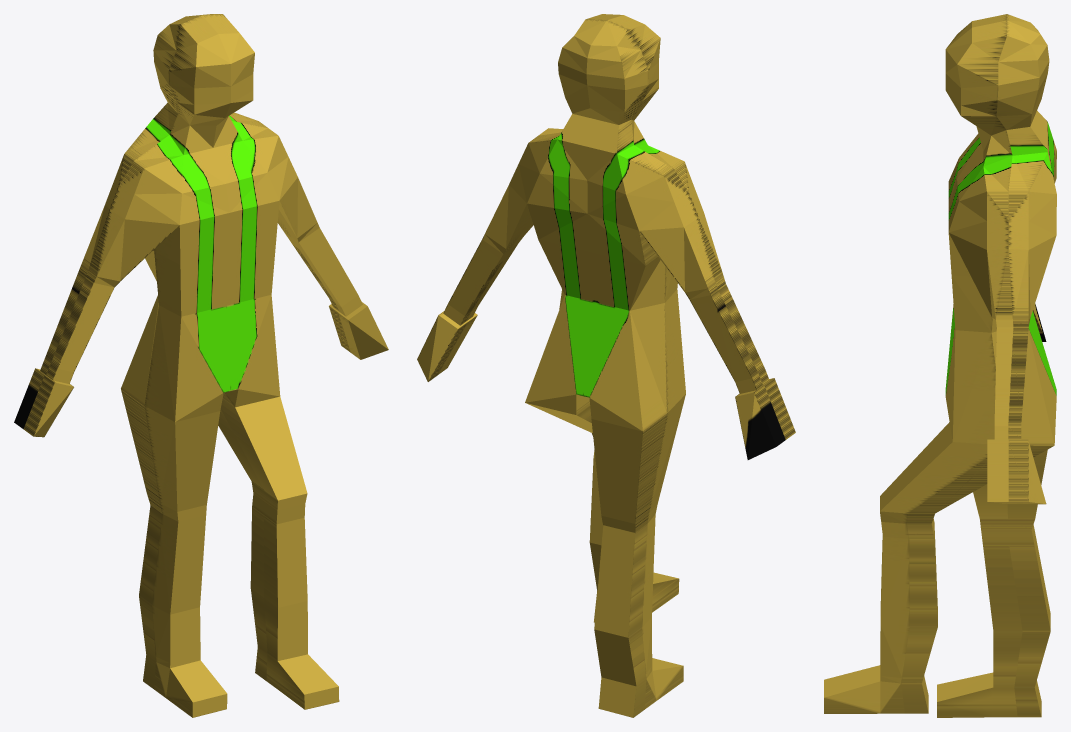
The picture shows the model from 3 angles, left to right: view 1: azimuth 30°, elevation 25°; view 2: azimuth 150°, elevation 25°; view 3: azimuth 270°, elevation 25°; orthographic projection. The views are drawn at different scales.
Parts seen in each view (by area): view 1: Borat; view 2: Borat; view 3: Borat.
Boxes of the visible parts, x1,y1,x2,y2 form: Borat: (14, 14, 388, 717); Borat: (417, 14, 795, 717); Borat: (824, 14, 1056, 717).
Bounding box in the file's own units: 1.79 × 3.21 × 0.9655.
